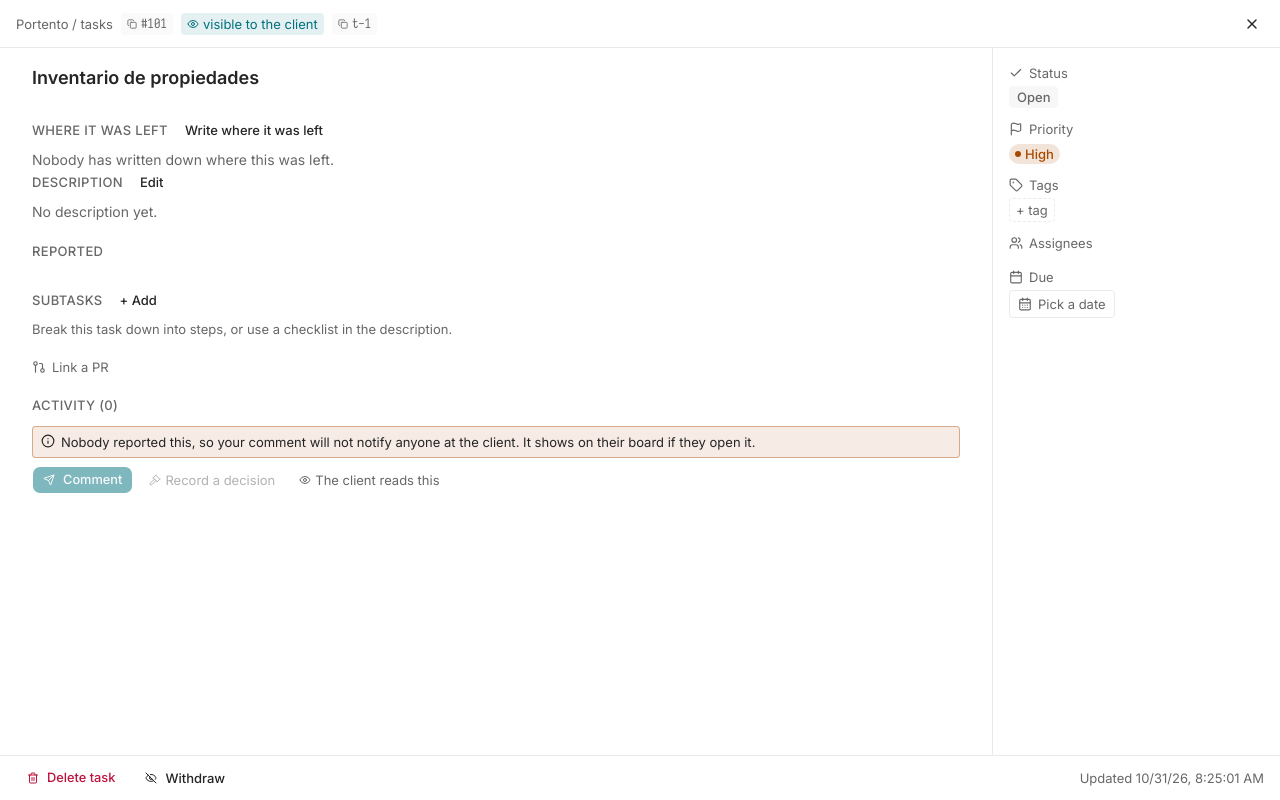
Test case: un reporte sin reporter › en modo interno se calla
Expected: the text "will not notify anyone" is shown, [61,434,755,450]
Click the button titled "switch to keep it internal" at (369, 480), box [291,467,448,493]
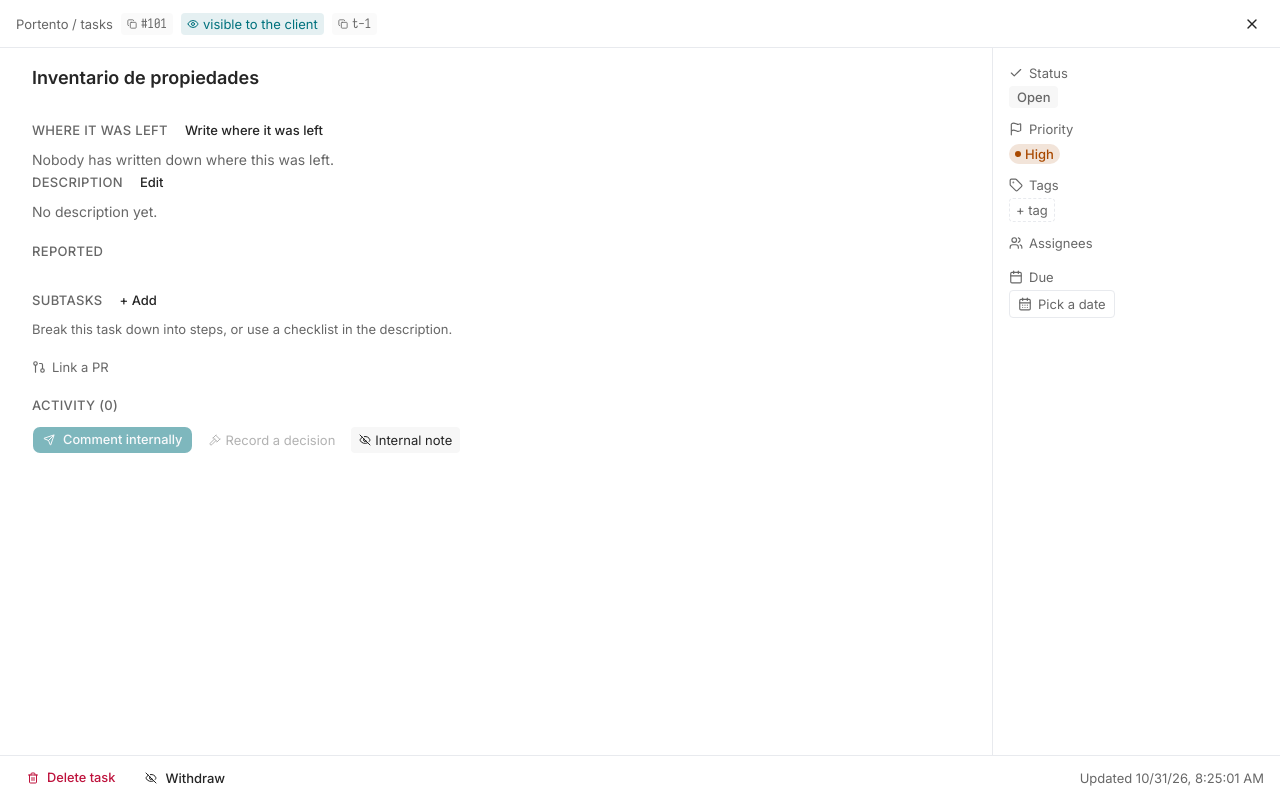
Now the text "will not notify anyone" is gone
